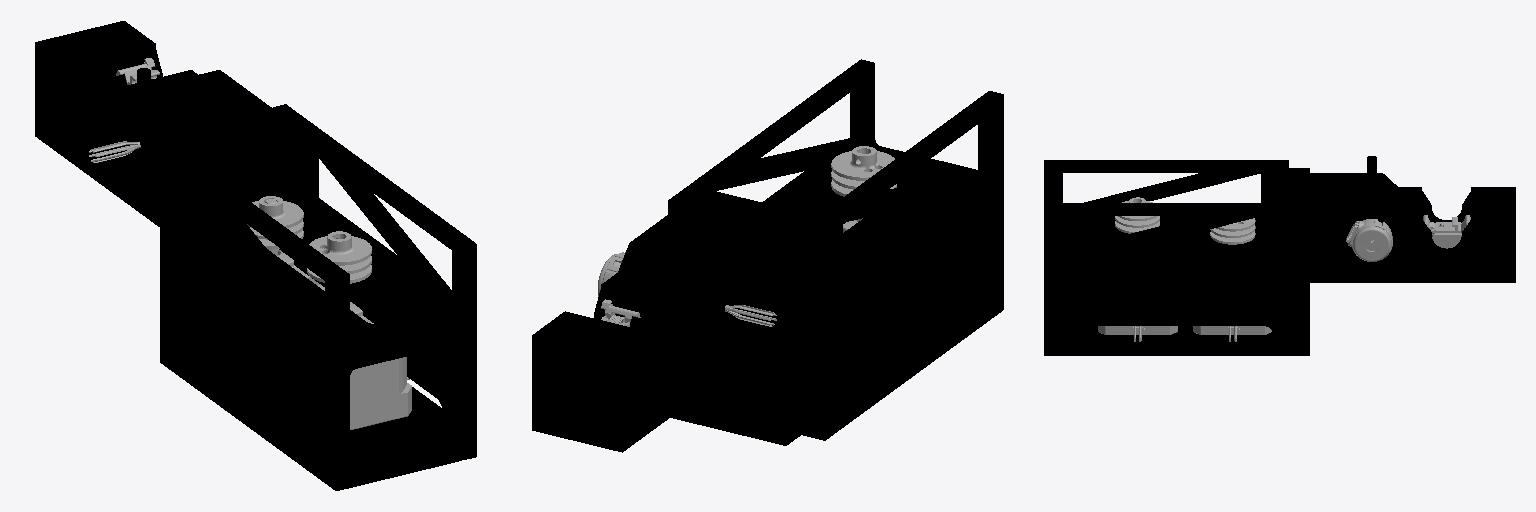
robot.urdf — maps:
<?xml version="1.0" ?>
<!-- =================================================================================== -->
<!-- |    This document was autogenerated by xacro from [local-path]/rsp_fp_ws/src/rsp-final-project/maps/maps_description/urdf/maps.urdf.xacro | -->
<!-- |    EDITING THIS FILE BY HAND IS NOT RECOMMENDED                                 | -->
<!-- =================================================================================== -->
<robot name="maps">
  <material name="silver">
    <color rgba="0.700 0.700 0.700 1.000"/>
  </material>
  <material name="black">
    <color rgba="0.000 0.000 0.000 1.000"/>
  </material>
  <transmission name="Revolute 126_tran">
    <type>transmission_interface/SimpleTransmission</type>
    <joint name="Revolute 126">
      <hardwareInterface>hardware_interface/EffortJointInterface</hardwareInterface>
    </joint>
    <actuator name="Revolute 126_actr">
      <hardwareInterface>hardware_interface/EffortJointInterface</hardwareInterface>
      <mechanicalReduction>1</mechanicalReduction>
    </actuator>
  </transmission>
  <transmission name="Revolute 129_tran">
    <type>transmission_interface/SimpleTransmission</type>
    <joint name="Revolute 129">
      <hardwareInterface>hardware_interface/EffortJointInterface</hardwareInterface>
    </joint>
    <actuator name="Revolute 129_actr">
      <hardwareInterface>hardware_interface/EffortJointInterface</hardwareInterface>
      <mechanicalReduction>1</mechanicalReduction>
    </actuator>
  </transmission>
  <gazebo>
    <plugin filename="libgazebo_ros_control.so" name="control"/>
  </gazebo>
  <gazebo reference="bottom_plate">
    <material>Gazebo/Silver</material>
    <mu1>0.2</mu1>
    <mu2>0.2</mu2>
    <selfCollide>true</selfCollide>
    <gravity>true</gravity>
  </gazebo>
  <gazebo reference="Stepper_Housing_1">
    <material>Gazebo/Silver</material>
    <mu1>0.2</mu1>
    <mu2>0.2</mu2>
    <selfCollide>true</selfCollide>
  </gazebo>
  <gazebo reference="Stepper_Motor_2">
    <material>Gazebo/Silver</material>
    <mu1>0.2</mu1>
    <mu2>0.2</mu2>
    <selfCollide>true</selfCollide>
  </gazebo>
  <gazebo reference="Stepper_Motor_Pulley_2">
    <material>Gazebo/Silver</material>
    <mu1>0.2</mu1>
    <mu2>0.2</mu2>
    <selfCollide>true</selfCollide>
  </gazebo>
  <gazebo reference="Stepper_Motor_1">
    <material>Gazebo/Silver</material>
    <mu1>0.2</mu1>
    <mu2>0.2</mu2>
    <selfCollide>true</selfCollide>
  </gazebo>
  <gazebo reference="Stepper_Motor_Pulley_1">
    <material>Gazebo/Silver</material>
    <mu1>0.2</mu1>
    <mu2>0.2</mu2>
    <selfCollide>true</selfCollide>
  </gazebo>
  <gazebo reference="Housing_Half_Right_1">
    <material>Gazebo/Silver</material>
    <mu1>0.2</mu1>
    <mu2>0.2</mu2>
    <selfCollide>true</selfCollide>
  </gazebo>
  <gazebo reference="Lid_1">
    <material>Gazebo/Silver</material>
    <mu1>0.2</mu1>
    <mu2>0.2</mu2>
    <selfCollide>true</selfCollide>
  </gazebo>
  <gazebo reference="Heat_Set_Nitinol_Tubing_1">
    <material>Gazebo/Silver</material>
    <mu1>0.2</mu1>
    <mu2>0.2</mu2>
    <selfCollide>true</selfCollide>
  </gazebo>
  <gazebo reference="Clamp_1">
    <material>Gazebo/Silver</material>
    <mu1>0.2</mu1>
    <mu2>0.2</mu2>
    <selfCollide>true</selfCollide>
  </gazebo>
  <gazebo reference="9271K713_Torsion_Spring_1">
    <material>Gazebo/Silver</material>
    <mu1>0.2</mu1>
    <mu2>0.2</mu2>
    <selfCollide>true</selfCollide>
  </gazebo>
  <gazebo reference="Carriage_1">
    <material>Gazebo/Silver</material>
    <mu1>0.2</mu1>
    <mu2>0.2</mu2>
    <selfCollide>true</selfCollide>
  </gazebo>
  <gazebo reference="Encoder_1">
    <material>Gazebo/Silver</material>
    <mu1>0.2</mu1>
    <mu2>0.2</mu2>
    <selfCollide>true</selfCollide>
  </gazebo>
  <gazebo reference="Housing_Half_Left_1">
    <material>Gazebo/Silver</material>
    <mu1>0.2</mu1>
    <mu2>0.2</mu2>
    <selfCollide>true</selfCollide>
  </gazebo>
  <link name="left_base_link">
    <inertial>
      <origin rpy="0 0 0" xyz="0 0 0"/>
      <mass value="0.0"/>
      <inertia ixx="0" ixy="0" ixz="0" iyy="0" iyz="0" izz="0"/>
    </inertial>
    <visual>
      <origin rpy="0 0 0" xyz="0 0 0"/>
      <geometry>
        </geometry>
      <material name="black"/>
    </visual>
    <collision>
      <origin rpy="0 0 0" xyz="0 0 0"/>
      <geometry>
        </geometry>
    </collision>
  </link>
  <link name="left_bottom_plate">
    <inertial>
      <origin rpy="0 0 0" xyz="0.028700074056251957 -0.05628457208855371 0.11139109245941702"/>
      <mass value="0.038950716927574694"/>
      <inertia ixx="5e-05" ixy="-0.0" ixz="0.0" iyy="5.7e-05" iyz="0.0" izz="7e-06"/>
    </inertial>
    <visual>
      <origin rpy="0 0 0" xyz="0 0 0"/>
      <geometry>
        <mesh filename="package://maps_description/meshes/bottom_plate.stl" scale="0.001 0.001 0.001"/>
      </geometry>
      <material name="black"/>
    </visual>
    <collision>
      <origin rpy="0 0 0" xyz="0 0 0"/>
      <geometry>
        <mesh filename="package://maps_description/meshes/bottom_plate.stl" scale="0.001 0.001 0.001"/>
      </geometry>
    </collision>
  </link>
  <link name="left_Stepper_Housing_1">
    <inertial>
      <origin rpy="0 0 0" xyz="1.733766377811849e-05 0.03974239387012183 0.043506004361799196"/>
      <mass value="0.200297888849439"/>
      <inertia ixx="0.0005" ixy="-2e-06" ixz="1e-05" iyy="0.000505" iyz="-2.1e-05" izz="0.000211"/>
    </inertial>
    <visual>
      <origin rpy="0 0 0" xyz="-0.0287 0.059285 -0.048891"/>
      <geometry>
        <mesh filename="package://maps_description/meshes/Stepper_Housing_1.stl" scale="0.001 0.001 0.001"/>
      </geometry>
      <material name="black"/>
    </visual>
    <collision>
      <origin rpy="0 0 0" xyz="-0.0287 0.059285 -0.048891"/>
      <geometry>
        <mesh filename="package://maps_description/meshes/Stepper_Housing_1.stl" scale="0.001 0.001 0.001"/>
      </geometry>
    </collision>
  </link>
  <link name="left_Stepper_Motor_2">
    <inertial>
      <origin rpy="0 0 0" xyz="-0.02087857142042189 0.014407736892748543 0.013003084922047756"/>
      <mass value="0.5441132868332024"/>
      <inertia ixx="0.000152" ixy="0.0" ixz="0.0" iyy="0.000151" iyz="-0.0" izz="0.000153"/>
    </inertial>
    <visual>
      <origin rpy="0 0 0" xyz="-0.049606 0.045344 -0.111388"/>
      <geometry>
        <mesh filename="package://maps_description/meshes/Stepper_Motor_2.stl" scale="0.001 0.001 0.001"/>
      </geometry>
      <material name="silver"/>
    </visual>
    <collision>
      <origin rpy="0 0 0" xyz="-0.049606 0.045344 -0.111388"/>
      <geometry>
        <mesh filename="package://maps_description/meshes/Stepper_Motor_2.stl" scale="0.001 0.001 0.001"/>
      </geometry>
    </collision>
  </link>
  <link name="left_Stepper_Motor_Pulley_2">
    <inertial>
      <origin rpy="0 0 0" xyz="0.00014872218127425646 -0.0028059988982639585 0.05055790681907549"/>
      <mass value="0.0030564891358110494"/>
      <inertia ixx="0.0" ixy="0.0" ixz="0.0" iyy="0.0" iyz="-0.0" izz="0.0"/>
    </inertial>
    <visual>
      <origin rpy="0 0 0" xyz="-0.0287 -0.011715 -0.073891"/>
      <geometry>
        <mesh filename="package://maps_description/meshes/Stepper_Motor_Pulley_2.stl" scale="0.001 0.001 0.001"/>
      </geometry>
      <material name="silver"/>
    </visual>
    <collision>
      <origin rpy="0 0 0" xyz="-0.0287 -0.011715 -0.073891"/>
      <geometry>
        <mesh filename="package://maps_description/meshes/Stepper_Motor_Pulley_2.stl" scale="0.001 0.001 0.001"/>
      </geometry>
    </collision>
  </link>
  <link name="left_Stepper_Motor_1">
    <inertial>
      <origin rpy="0 0 0" xyz="-0.020878571420421887 0.01440773689274864 0.025003084922047586"/>
      <mass value="0.5441132868332024"/>
      <inertia ixx="0.000152" ixy="0.0" ixz="0.0" iyy="0.000151" iyz="-0.0" izz="0.000153"/>
    </inertial>
    <visual>
      <origin rpy="0 0 0" xyz="-0.049606 0.045344 -0.048888"/>
      <geometry>
        <mesh filename="package://maps_description/meshes/Stepper_Motor_1.stl" scale="0.001 0.001 0.001"/>
      </geometry>
      <material name="silver"/>
    </visual>
    <collision>
      <origin rpy="0 0 0" xyz="-0.049606 0.045344 -0.048888"/>
      <geometry>
        <mesh filename="package://maps_description/meshes/Stepper_Motor_1.stl" scale="0.001 0.001 0.001"/>
      </geometry>
    </collision>
  </link>
  <link name="left_Stepper_Motor_Pulley_1">
    <inertial>
      <origin rpy="0 0 0" xyz="-5.7740303404777565e-05 -0.008805998898263884 0.0001487405844412537"/>
      <mass value="0.0030564891358110494"/>
      <inertia ixx="0.0" ixy="0.0" ixz="-0.0" iyy="0.0" iyz="0.0" izz="0.0"/>
    </inertial>
    <visual>
      <origin rpy="0 0 0" xyz="-0.0287 -0.011715 -0.073891"/>
      <geometry>
        <mesh filename="package://maps_description/meshes/Stepper_Motor_Pulley_1.stl" scale="0.001 0.001 0.001"/>
      </geometry>
      <material name="silver"/>
    </visual>
    <collision>
      <origin rpy="0 0 0" xyz="-0.0287 -0.011715 -0.073891"/>
      <geometry>
        <mesh filename="package://maps_description/meshes/Stepper_Motor_Pulley_1.stl" scale="0.001 0.001 0.001"/>
      </geometry>
    </collision>
  </link>
  <link name="left_Housing_Half_Right_1">
    <inertial>
      <origin rpy="0 0 0" xyz="-0.015753834019128818 0.00807676983000056 -0.055751666594499136"/>
      <mass value="0.03618811857879113"/>
      <inertia ixx="7.6e-05" ixy="-1e-06" ixz="-0.0" iyy="7.4e-05" iyz="-3e-06" izz="1.2e-05"/>
    </inertial>
    <visual>
      <origin rpy="0 0 0" xyz="-0.054412 0.011344 -0.043888"/>
      <geometry>
        <mesh filename="package://maps_description/meshes/Housing_Half_Right_1.stl" scale="0.001 0.001 0.001"/>
      </geometry>
      <material name="black"/>
    </visual>
    <collision>
      <origin rpy="0 0 0" xyz="-0.054412 0.011344 -0.043888"/>
      <geometry>
        <mesh filename="package://maps_description/meshes/Housing_Half_Right_1.stl" scale="0.001 0.001 0.001"/>
      </geometry>
    </collision>
  </link>
  <link name="left_Lid_1">
    <inertial>
      <origin rpy="0 0 0" xyz="-0.021151562988249682 -0.0024511558531786215 0.05892507507140977"/>
      <mass value="0.009187360459117536"/>
      <inertia ixx="1.1e-05" ixy="0.0" ixz="0.0" iyy="1.2e-05" iyz="-1e-06" izz="1e-06"/>
    </inertial>
    <visual>
      <origin rpy="0 0 0" xyz="-0.053812 -0.025156 0.066112"/>
      <geometry>
        <mesh filename="package://maps_description/meshes/Lid_1.stl" scale="0.001 0.001 0.001"/>
      </geometry>
      <material name="black"/>
    </visual>
    <collision>
      <origin rpy="0 0 0" xyz="-0.053812 -0.025156 0.066112"/>
      <geometry>
        <mesh filename="package://maps_description/meshes/Lid_1.stl" scale="0.001 0.001 0.001"/>
      </geometry>
    </collision>
  </link>
  <link name="left_Heat_Set_Nitinol_Tubing_1">
    <inertial>
      <origin rpy="0 0 0" xyz="0.013366557969331724 2.5787753891830245e-07 -1.2661123537550408e-08"/>
      <mass value="0.0013649495549052447"/>
      <inertia ixx="0.0" ixy="-0.0" ixz="-0.0" iyy="0.0" iyz="0.0" izz="0.0"/>
    </inertial>
    <visual>
      <origin rpy="0 0 0" xyz="-0.014706 -0.00794 3e-06"/>
      <geometry>
        <mesh filename="package://maps_description/meshes/Heat_Set_Nitinol_Tubing_1.stl" scale="0.001 0.001 0.001"/>
      </geometry>
      <material name="silver"/>
    </visual>
    <collision>
      <origin rpy="0 0 0" xyz="-0.014706 -0.00794 3e-06"/>
      <geometry>
        <mesh filename="package://maps_description/meshes/Heat_Set_Nitinol_Tubing_1.stl" scale="0.001 0.001 0.001"/>
      </geometry>
    </collision>
  </link>
  <link name="left_Clamp_1">
    <inertial>
      <origin rpy="0 0 0" xyz="-0.04910599472849593 -0.006490413917958411 0.031091296731927072"/>
      <mass value="0.0004050623246577962"/>
      <inertia ixx="0.0" ixy="0.0" ixz="-0.0" iyy="0.0" iyz="0.0" izz="0.0"/>
    </inertial>
    <visual>
      <origin rpy="0 0 0" xyz="-0.092112 -0.015881 0.071823"/>
      <geometry>
        <mesh filename="package://maps_description/meshes/Clamp_1.stl" scale="0.001 0.001 0.001"/>
      </geometry>
      <material name="silver"/>
    </visual>
    <collision>
      <origin rpy="0 0 0" xyz="-0.092112 -0.015881 0.071823"/>
      <geometry>
        <mesh filename="package://maps_description/meshes/Clamp_1.stl" scale="0.001 0.001 0.001"/>
      </geometry>
    </collision>
  </link>
  <link name="left_9271K713_Torsion_Spring_1">
    <inertial>
      <origin rpy="0 0 0" xyz="-0.04587815379893997 -0.005191137446164394 0.05995234757403412"/>
      <mass value="0.00032691523230906554"/>
      <inertia ixx="0.0" ixy="0.0" ixz="-0.0" iyy="0.0" iyz="-0.0" izz="0.0"/>
    </inertial>
    <visual>
      <origin rpy="0 0 0" xyz="-0.08886 -0.011717 0.091848"/>
      <geometry>
        <mesh filename="package://maps_description/meshes/9271K713_Torsion_Spring_1.stl" scale="0.001 0.001 0.001"/>
      </geometry>
      <material name="silver"/>
    </visual>
    <collision>
      <origin rpy="0 0 0" xyz="-0.08886 -0.011717 0.091848"/>
      <geometry>
        <mesh filename="package://maps_description/meshes/9271K713_Torsion_Spring_1.stl" scale="0.001 0.001 0.001"/>
      </geometry>
    </collision>
  </link>
  <link name="left_Carriage_1">
    <inertial>
      <origin rpy="0 0 0" xyz="-0.030067310222141604 -0.012791984068765925 -0.0007101623118073164"/>
      <mass value="0.005608507543620901"/>
      <inertia ixx="0.0" ixy="0.0" ixz="-0.0" iyy="0.0" iyz="0.0" izz="0.0"/>
    </inertial>
    <visual>
      <origin rpy="0 0 0" xyz="-0.073212 -0.015881 0.039665"/>
      <geometry>
        <mesh filename="package://maps_description/meshes/Carriage_1.stl" scale="0.001 0.001 0.001"/>
      </geometry>
      <material name="silver"/>
    </visual>
    <collision>
      <origin rpy="0 0 0" xyz="-0.073212 -0.015881 0.039665"/>
      <geometry>
        <mesh filename="package://maps_description/meshes/Carriage_1.stl" scale="0.001 0.001 0.001"/>
      </geometry>
    </collision>
  </link>
  <link name="left_Encoder_1">
    <inertial>
      <origin rpy="0 0 0" xyz="-0.0163358433032059 -0.00726671029354733 0.0014768820366421718"/>
      <mass value="0.0059021295354430466"/>
      <inertia ixx="0.0" ixy="-0.0" ixz="-0.0" iyy="0.0" iyz="-0.0" izz="0.0"/>
    </inertial>
    <visual>
      <origin rpy="0 0 0" xyz="-0.073212 -0.015881 6e-06"/>
      <geometry>
        <mesh filename="package://maps_description/meshes/Encoder_1.stl" scale="0.001 0.001 0.001"/>
      </geometry>
      <material name="silver"/>
    </visual>
    <collision>
      <origin rpy="0 0 0" xyz="-0.073212 -0.015881 6e-06"/>
      <geometry>
        <mesh filename="package://maps_description/meshes/Encoder_1.stl" scale="0.001 0.001 0.001"/>
      </geometry>
    </collision>
  </link>
  <link name="left_Housing_Half_Left_1">
    <inertial>
      <origin rpy="0 0 0" xyz="-0.018099267665483827 -0.02307870475773183 0.042790560700989036"/>
      <mass value="0.020164852093154183"/>
      <inertia ixx="2e-05" ixy="0.0" ixz="1e-06" iyy="1.8e-05" iyz="-1e-06" izz="3e-06"/>
    </inertial>
    <visual>
      <origin rpy="0 0 0" xyz="-0.037412 -0.022156 0.068612"/>
      <geometry>
        <mesh filename="package://maps_description/meshes/Housing_Half_Left_1.stl" scale="0.001 0.001 0.001"/>
      </geometry>
      <material name="black"/>
    </visual>
    <collision>
      <origin rpy="0 0 0" xyz="-0.037412 -0.022156 0.068612"/>
      <geometry>
        <mesh filename="package://maps_description/meshes/Housing_Half_Left_1.stl" scale="0.001 0.001 0.001"/>
      </geometry>
    </collision>
  </link>
  <joint name="left_joint_0" type="fixed">
    <parent link="world"/>
    <child link="left_base_link"/>
    <origin rpy="0.0 0.0 0.0" xyz="0.0 0.0 0.0"/>
  </joint>
  <joint name="left_Rigid 117" type="fixed">
    <origin rpy="1.57079632368 0 0" xyz="0.00 0.00 0.060"/>
    <parent link="left_base_link"/>
    <child link="left_bottom_plate"/>
  </joint>
  <joint name="left_Rigid 118" type="fixed">
    <origin rpy="0 0 0" xyz="0.0287 -0.059285 0.048891"/>
    <parent link="left_bottom_plate"/>
    <child link="left_Stepper_Housing_1"/>
  </joint>
  <joint name="left_Rigid 119" type="fixed">
    <origin rpy="0 0 0" xyz="0.049606 -0.045344 0.111388"/>
    <parent link="left_bottom_plate"/>
    <child link="left_Stepper_Motor_2"/>
  </joint>
  <joint name="left_Rigid 120" type="fixed">
    <origin rpy="0 0 0" xyz="-0.020906 0.057059 -0.037497"/>
    <parent link="left_Stepper_Motor_2"/>
    <child link="left_Stepper_Motor_Pulley_2"/>
  </joint>
  <joint name="left_Rigid 121" type="fixed">
    <origin rpy="0 0 0" xyz="0.049606 -0.045344 0.048888"/>
    <parent link="left_bottom_plate"/>
    <child link="left_Stepper_Motor_1"/>
  </joint>
  <joint name="left_Rigid 122" type="fixed">
    <origin rpy="0 0 0" xyz="-0.020906 0.057059 0.025003"/>
    <parent link="left_Stepper_Motor_1"/>
    <child link="left_Stepper_Motor_Pulley_1"/>
  </joint>
  <joint name="left_Rigid 123" type="fixed">
    <origin rpy="0 0 0" xyz="0.025712 0.047941 -0.005003"/>
    <parent link="left_Stepper_Housing_1"/>
    <child link="left_Housing_Half_Right_1"/>
  </joint>
  <joint name="left_Rigid 125" type="fixed">
    <origin rpy="0 0 0" xyz="-0.0006 0.0365 -0.11"/>
    <parent link="left_Housing_Half_Right_1"/>
    <child link="left_Lid_1"/>
  </joint>
  <joint name="left_Nitinol Rotation" type="continuous">
    <origin rpy="0 0 0" xyz="-0.022706 -0.014216 0.068609"/>
    <parent link="left_Housing_Half_Left_1"/>
    <child link="left_Heat_Set_Nitinol_Tubing_1"/>
    <axis xyz="1.0 0.0 0.0"/>
  </joint>
  <joint name="left_Rigid 127" type="fixed">
    <origin rpy="0 0 0" xyz="0.0189 0.0 -0.032158"/>
    <parent link="left_Carriage_1"/>
    <child link="left_Clamp_1"/>
  </joint>
  <joint name="left_Rigid 128" type="fixed">
    <origin rpy="0 0 0" xyz="0.015648 -0.004164 -0.052183"/>
    <parent link="left_Carriage_1"/>
    <child link="left_9271K713_Torsion_Spring_1"/>
  </joint>
  <joint name="left_Clamp Rotation" type="continuous">
    <origin rpy="0 0 0" xyz="0.0188 0.027225 -0.083553"/>
    <parent link="left_Housing_Half_Right_1"/>
    <child link="left_Carriage_1"/>
    <axis xyz="-1.0 -0.0 -0.0"/>
  </joint>
  <joint name="left_Rigid 130" type="fixed">
    <origin rpy="0 0 0" xyz="0.0188 0.027225 -0.043894"/>
    <parent link="left_Housing_Half_Right_1"/>
    <child link="left_Encoder_1"/>
  </joint>
  <joint name="left_Rigid 131" type="fixed">
    <origin rpy="0 0 0" xyz="-0.017 0.0335 -0.1125"/>
    <parent link="left_Housing_Half_Right_1"/>
    <child link="left_Housing_Half_Left_1"/>
  </joint>
  <gazebo>
    <plugin filename="libignition-gazebo-joint-state-publisher-system.so" name="ignition::gazebo::systems::JointStatePublisher"/>
  </gazebo>
  <link name="world"/>
</robot>

--- What the picture shows (computed from the rendered views, not written in the file) ---
Views: 3 orthographic renders of the robot side by side, from view 1: azimuth 30°, elevation 25°; view 2: azimuth 150°, elevation 25°; view 3: azimuth 270°, elevation 25°.
Model maps with 16 links and 15 joints (2 continuous, 13 fixed), rooted at world, posed every joint at zero.
Visible links, largest first — view 1: left_Stepper_Housing_1, left_Housing_Half_Left_1, left_Lid_1, left_bottom_plate, left_Stepper_Motor_2, left_Housing_Half_Right_1, left_Stepper_Motor_Pulley_2, left_Stepper_Motor_Pulley_1, left_Heat_Set_Nitinol_Tubing_1; view 2: left_Stepper_Housing_1, left_Housing_Half_Left_1, left_Lid_1, left_Housing_Half_Right_1, left_Stepper_Motor_Pulley_2, left_Heat_Set_Nitinol_Tubing_1; view 3: left_Stepper_Housing_1, left_Housing_Half_Right_1, left_Lid_1, left_Encoder_1, left_Stepper_Motor_Pulley_1, left_Stepper_Motor_Pulley_2, left_Stepper_Motor_2, left_Stepper_Motor_1, left_Carriage_1, left_Housing_Half_Left_1.
Link boxes in pixels (x1,y1,x2,y2): left_Stepper_Housing_1: [160, 104, 476, 490]; left_Housing_Half_Left_1: [35, 47, 177, 226]; left_Lid_1: [35, 21, 286, 139]; left_bottom_plate: [350, 410, 461, 487]; left_Stepper_Motor_2: [318, 285, 411, 429]; left_Housing_Half_Right_1: [95, 49, 262, 218]; left_Stepper_Motor_Pulley_2: [307, 231, 371, 283]; left_Stepper_Motor_Pulley_1: [247, 196, 303, 248]; left_Heat_Set_Nitinol_Tubing_1: [89, 141, 140, 162]; left_Stepper_Housing_1: [668, 59, 1003, 445]; left_Housing_Half_Left_1: [618, 231, 772, 452]; left_Lid_1: [532, 193, 786, 361]; left_Housing_Half_Right_1: [532, 290, 662, 450]; left_Stepper_Motor_Pulley_2: [831, 146, 896, 196]; left_Heat_Set_Nitinol_Tubing_1: [725, 305, 776, 326]; left_Stepper_Housing_1: [1044, 160, 1309, 355]; left_Housing_Half_Right_1: [1310, 206, 1515, 282]; left_Lid_1: [1289, 156, 1515, 220]; left_Encoder_1: [1346, 219, 1392, 261]; left_Stepper_Motor_Pulley_1: [1210, 218, 1255, 244]; left_Stepper_Motor_Pulley_2: [1115, 197, 1159, 233]; left_Stepper_Motor_2: [1098, 326, 1177, 341]; left_Stepper_Motor_1: [1193, 326, 1271, 341]; left_Carriage_1: [1423, 215, 1470, 248]; left_Housing_Half_Left_1: [1334, 191, 1486, 250].
Size in the robot's own frame: 0.0729 by 0.25 by 0.097 metres.
14 mesh visuals loaded from 14 distinct referenced files (14 binary STL).